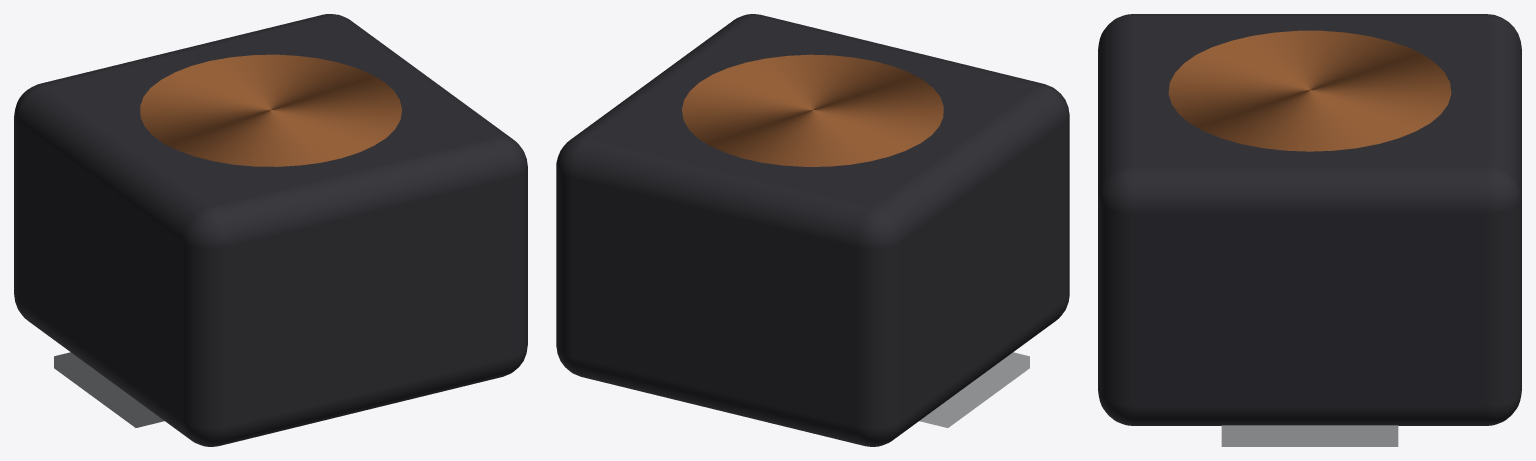
File: power_inductor.obj
3 views of the same model, side by side, from view 1: azimuth 30°, elevation 25°; view 2: azimuth 150°, elevation 25°; view 3: azimuth 270°, elevation 25° (orthographic). The views are drawn at different scales.
Visible parts, largest first — view 1: shielded_core, winding_window, terminal; view 2: shielded_core, winding_window, terminal; view 3: shielded_core, winding_window, terminal_2.
Boxes of the visible parts, <box> form: shielded_core: <box>14,14,527,446</box>; winding_window: <box>140,54,401,166</box>; terminal: <box>54,352,164,427</box>; shielded_core: <box>556,14,1069,446</box>; winding_window: <box>682,54,943,166</box>; terminal: <box>919,352,1029,427</box>; shielded_core: <box>1098,14,1521,425</box>; winding_window: <box>1168,30,1451,151</box>; terminal_2: <box>1221,425,1398,446</box>.
Size of the model in its own units: 0.0124 by 0.00825 by 0.012.
